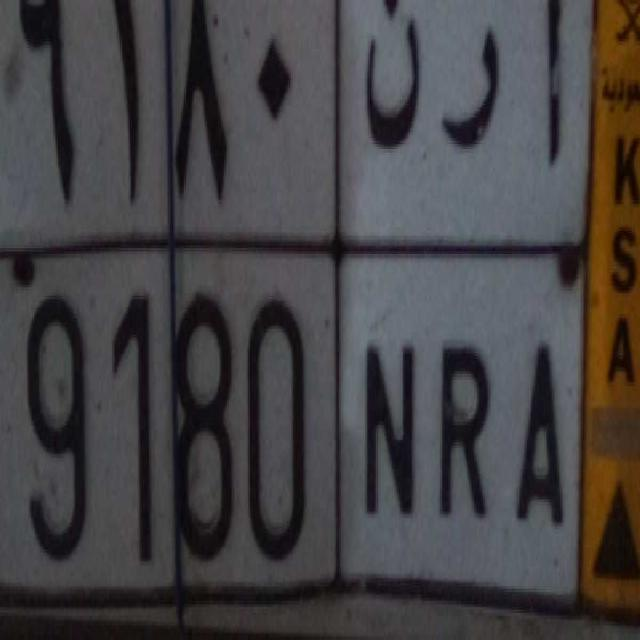license_plate: (0, 224, 583, 637)
